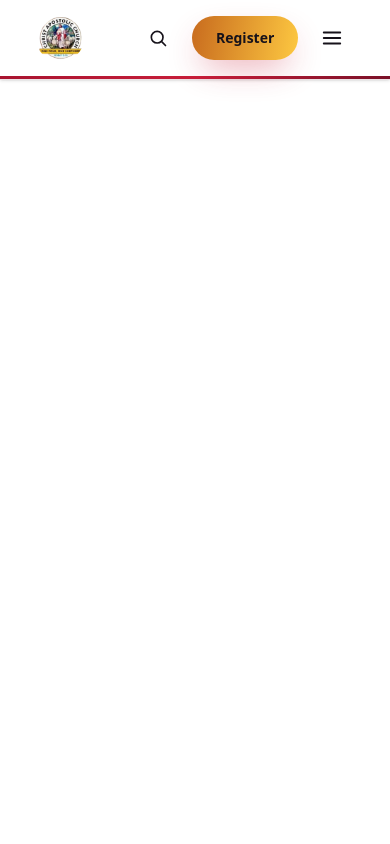
it: PrimaryNav › keeps About/Live/Give reachable on mobile via a menu toggle
Click the button named "Open menu" at (332, 38), box x1=310 y1=16 x2=354 y2=60
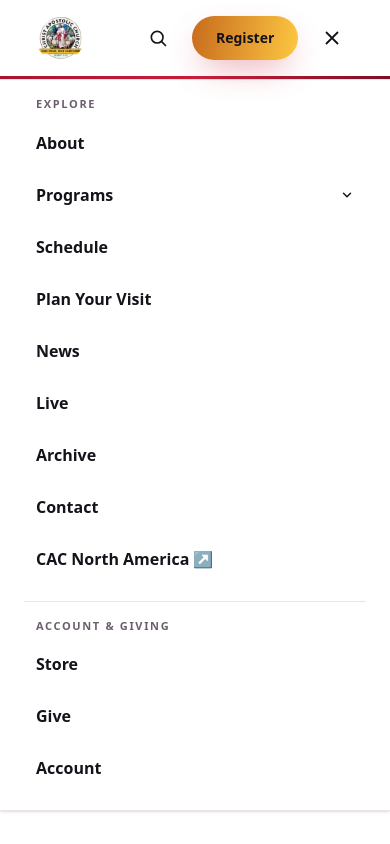
Result: the button named "Open menu" is expanded at x1=310 y1=16 x2=354 y2=60
Result: the link "About" is shown
Result: the link "Live" is shown at x1=36 y1=392 x2=68 y2=414
Click the link "About" at (60, 142), box x1=36 y1=132 x2=84 y2=154
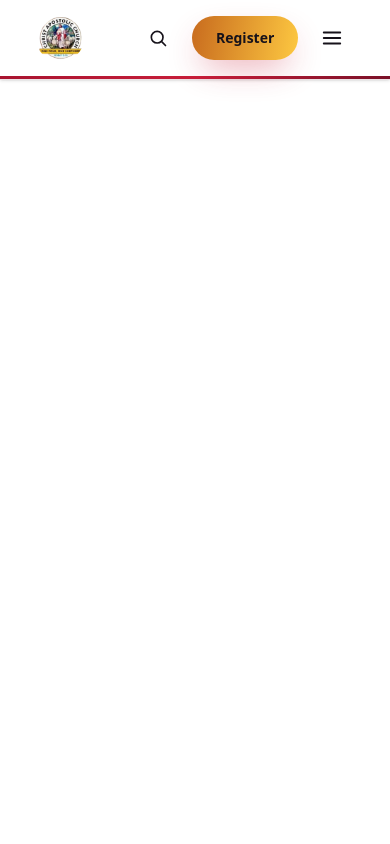
Result: the button named "Open menu" is collapsed at x1=310 y1=16 x2=354 y2=60
